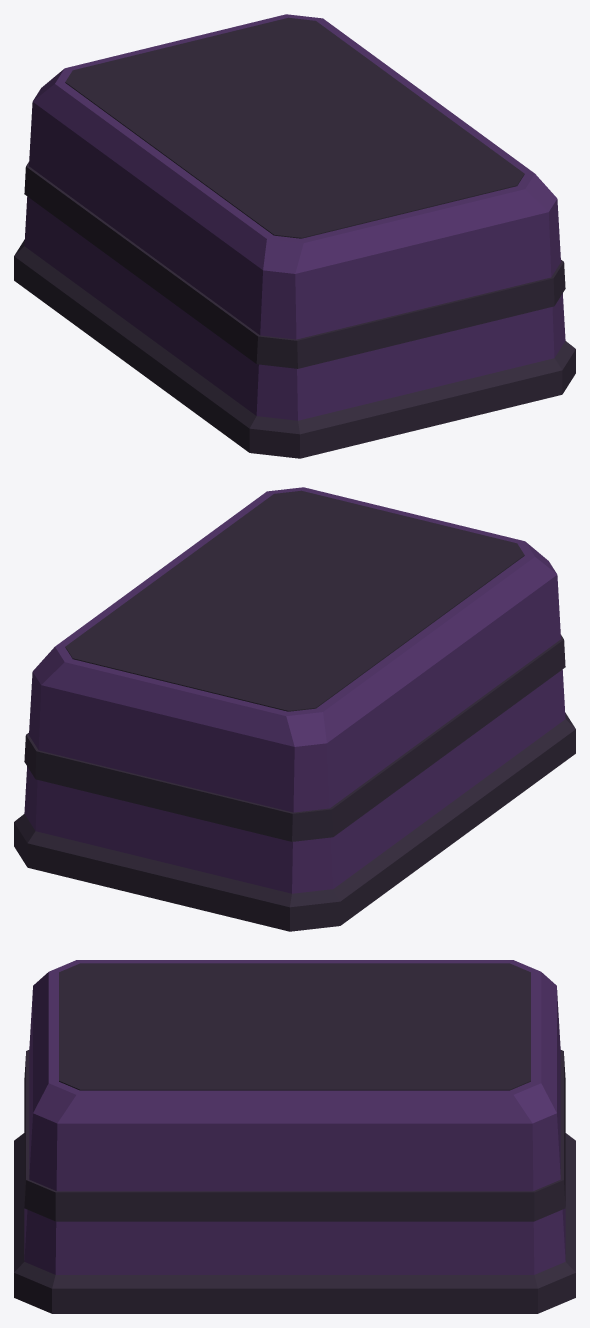
File: SM_SB_Kit_AlienPlinth_200x300x130.fbx
3 views of the same model, one above another, from view 1: azimuth 30°, elevation 25°; view 2: azimuth 150°, elevation 25°; view 3: azimuth 270°, elevation 25° (orthographic). The views are drawn at different scales.
Visible parts, largest first — view 1: SM_SB_Kit_AlienPlinth_200x300x130; view 2: SM_SB_Kit_AlienPlinth_200x300x130; view 3: SM_SB_Kit_AlienPlinth_200x300x130.
Part boxes in pixels (<box>): SM_SB_Kit_AlienPlinth_200x300x130: <box>14,14,575,458</box>; SM_SB_Kit_AlienPlinth_200x300x130: <box>14,487,575,931</box>; SM_SB_Kit_AlienPlinth_200x300x130: <box>14,960,575,1313</box>.
Size of the model in its own units: 224 by 324 by 131.
